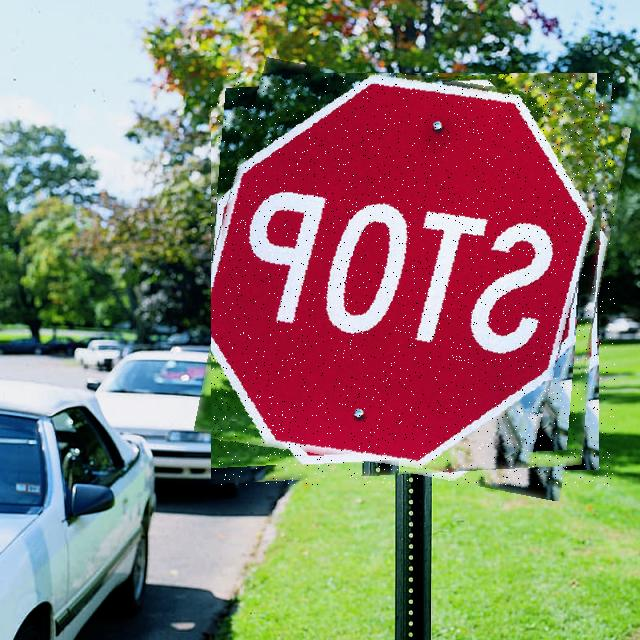stop: (211, 73, 615, 486)
